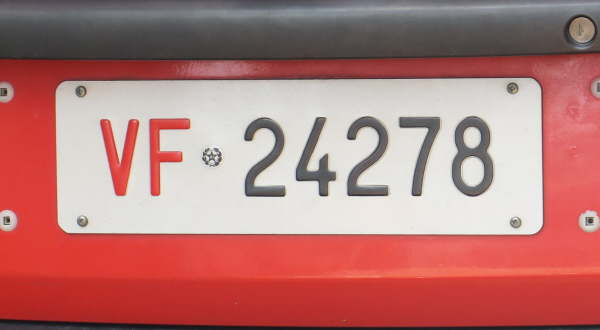license_plate: (56, 78, 543, 235)
